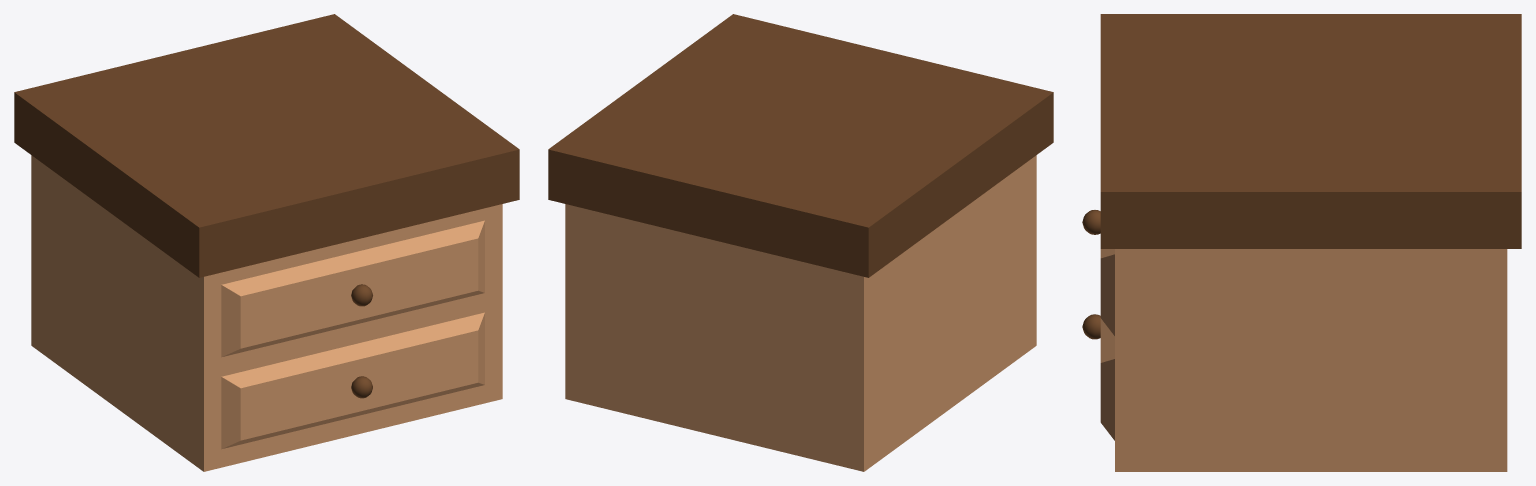
The model's file is ASFTR_Counter.fbx.
3 renders of one model, left to right at view 1: azimuth 30°, elevation 25°; view 2: azimuth 150°, elevation 25°; view 3: azimuth 270°, elevation 25°, orthographic. The views are drawn at different scales.
Parts seen in each view (by area): view 1: ASFTR_Counter; view 2: ASFTR_Counter; view 3: ASFTR_Counter.
Part boxes in pixels (bbox=[...]): ASFTR_Counter: bbox=[14, 14, 519, 471]; ASFTR_Counter: bbox=[548, 14, 1053, 471]; ASFTR_Counter: bbox=[1082, 14, 1521, 471].
Bounding box in the file's own units: 100 × 75 × 104.
